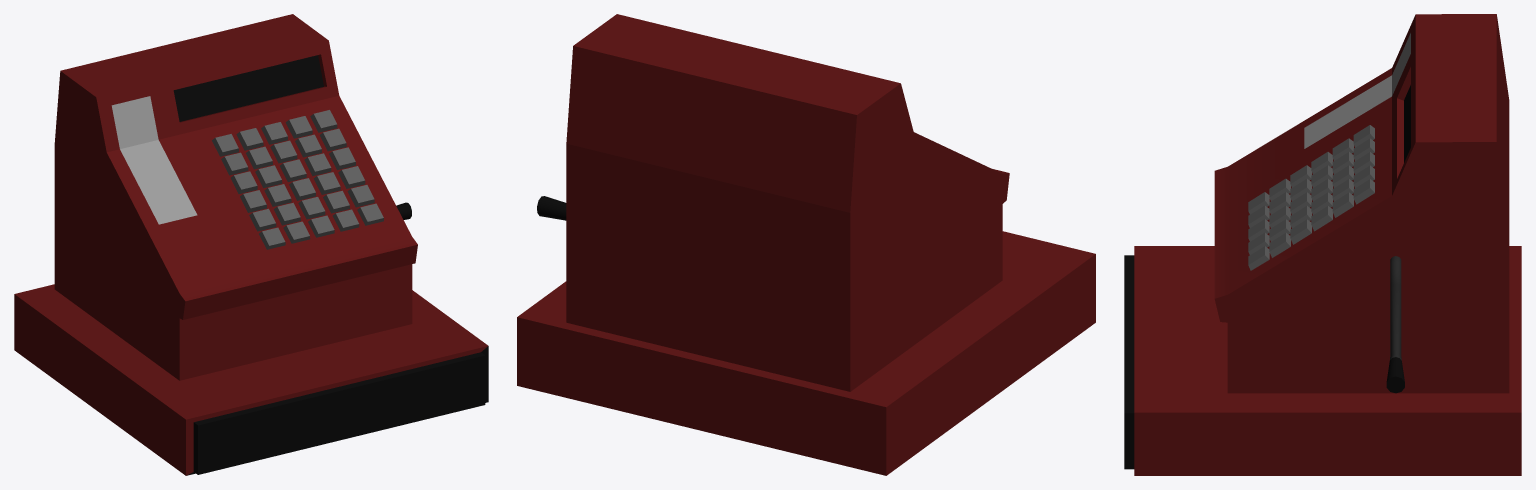
3 views of the same model, side by side, from view 1: azimuth 30°, elevation 25°; view 2: azimuth 150°, elevation 25°; view 3: azimuth 270°, elevation 25° (orthographic). The views are drawn at different scales.
Visible parts, largest first — view 1: Cassa_apparat_002; view 2: Cassa_apparat_002; view 3: Cassa_apparat_002.
Boxes of the visible parts, box(x1,y1,x2,y2) form: Cassa_apparat_002: box(14, 14, 488, 475); Cassa_apparat_002: box(517, 14, 1095, 475); Cassa_apparat_002: box(1124, 14, 1521, 475).
Size of the model in its own units: 56.61 by 44.62 by 51.02.
